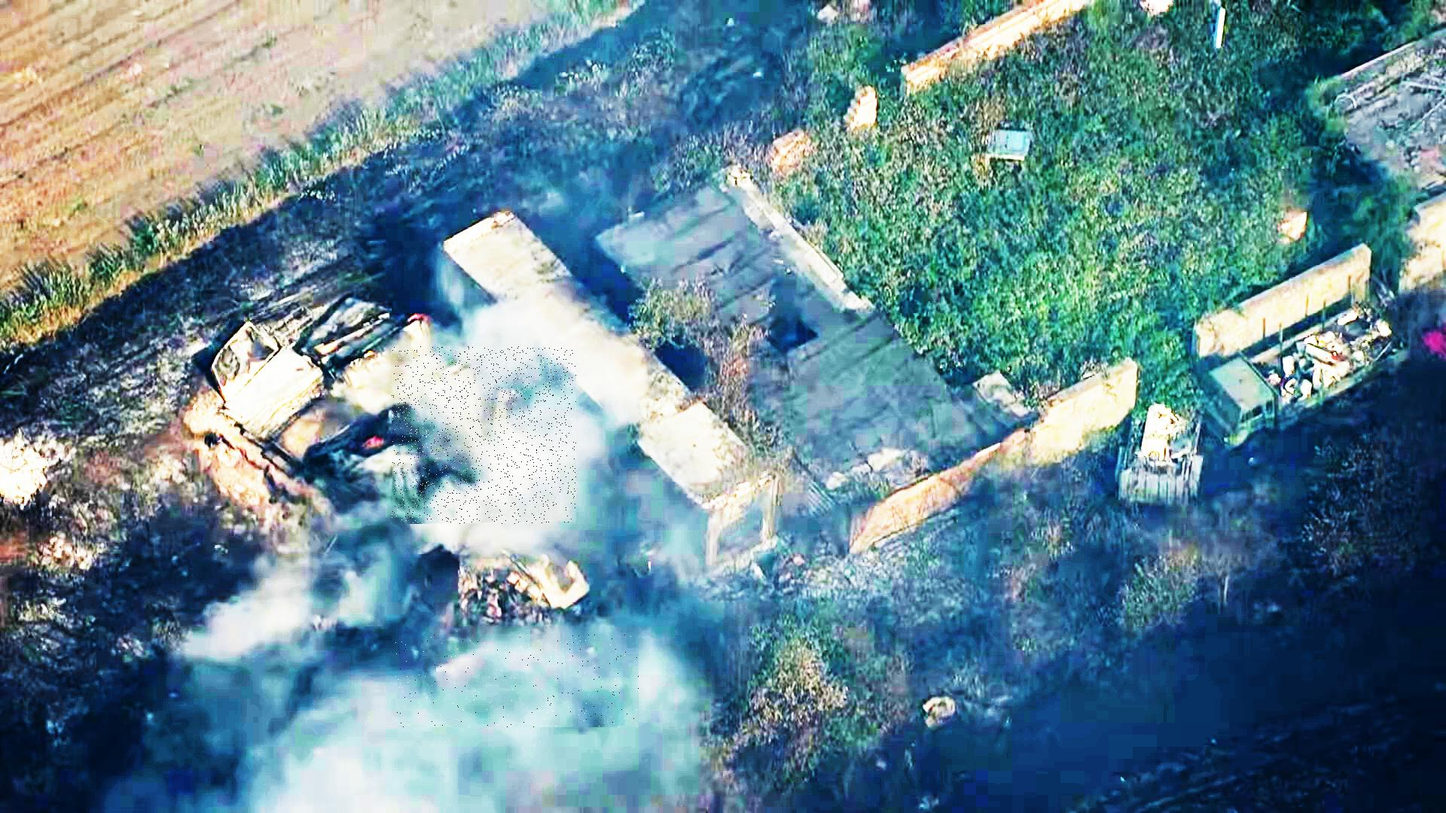smoke: (392, 347, 576, 524), (395, 635, 639, 727)
